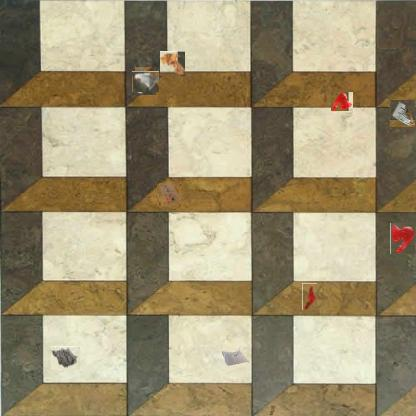dirty: (220, 342, 250, 368), (390, 99, 416, 127), (50, 346, 80, 369), (159, 51, 185, 76), (133, 69, 158, 94), (158, 184, 181, 206), (302, 283, 317, 310)
liquid: (390, 222, 415, 254), (331, 91, 353, 112)
